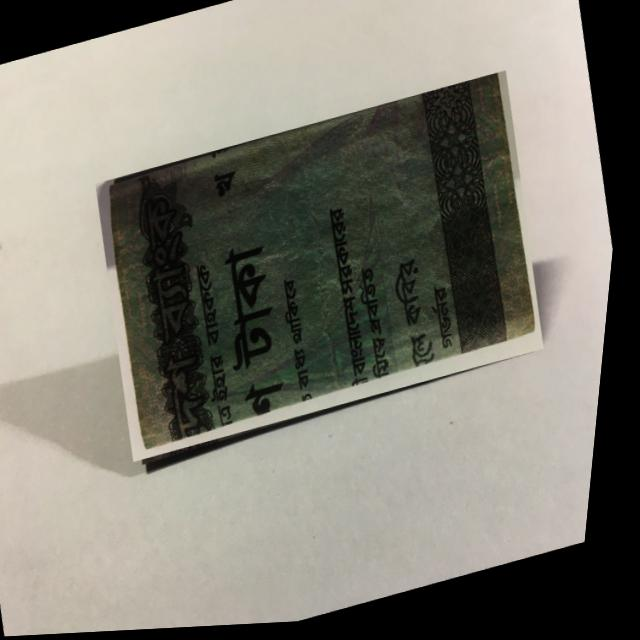Taka: (78, 73, 572, 466)
